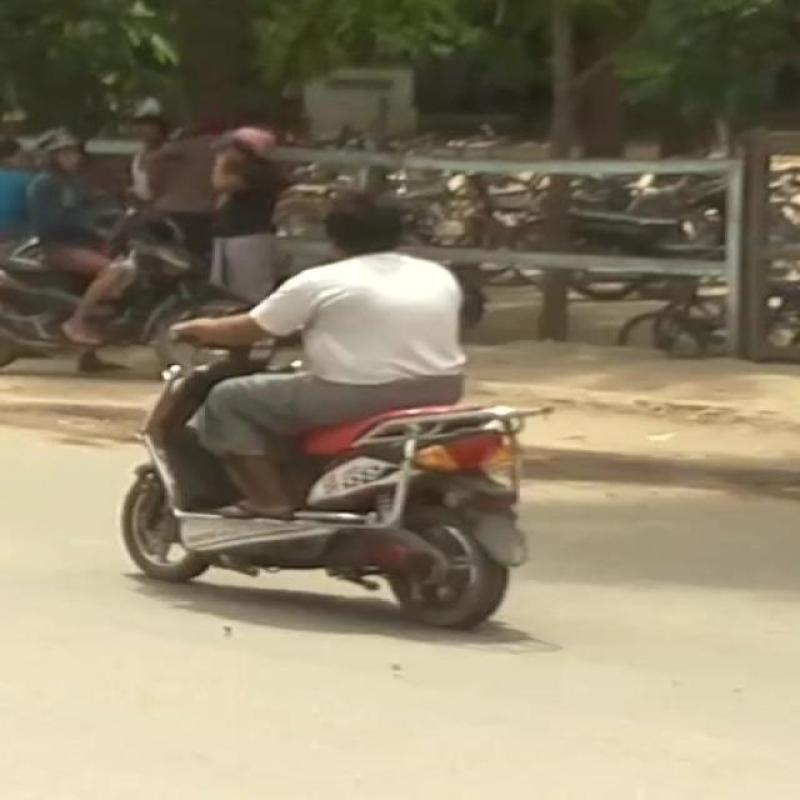nohelmet: (317, 195, 438, 284)
